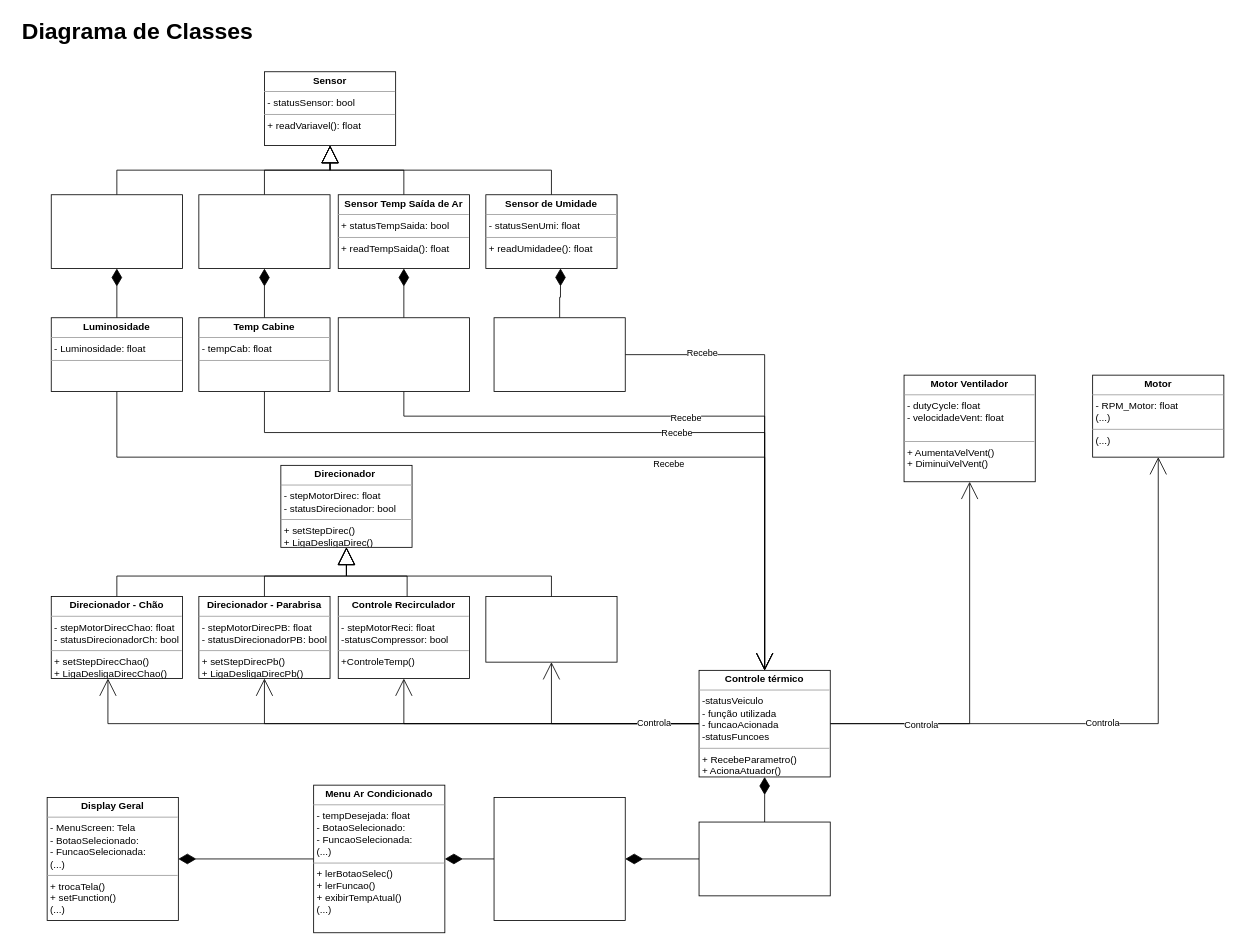
Image size: 1238x947. Some labels were removed from this diagram. Each missing label, with the centre of its shape:
"Função - Id - Parametros - Saida (...)" belongs at pixel 559 858.
"Misturador de ar - stepMotorMix: float + setStepMix()" belongs at pixel 551 629.
"Sensor de Luminosidade - statusSenLumi: bool + readLuminosidade(): float" belongs at pixel 116 231.
"Sensor Temp Cabine - statusSenCab: bool + readTempCab(): float" belongs at pixel 264 231.
"Temp Escolhida - tempEscolhida: float" belongs at pixel 764 858.
"Temp Saída de Ar + tempSaida: float" belongs at pixel 403 354.
"Umidade - Umidade: float" belongs at pixel 559 354.
